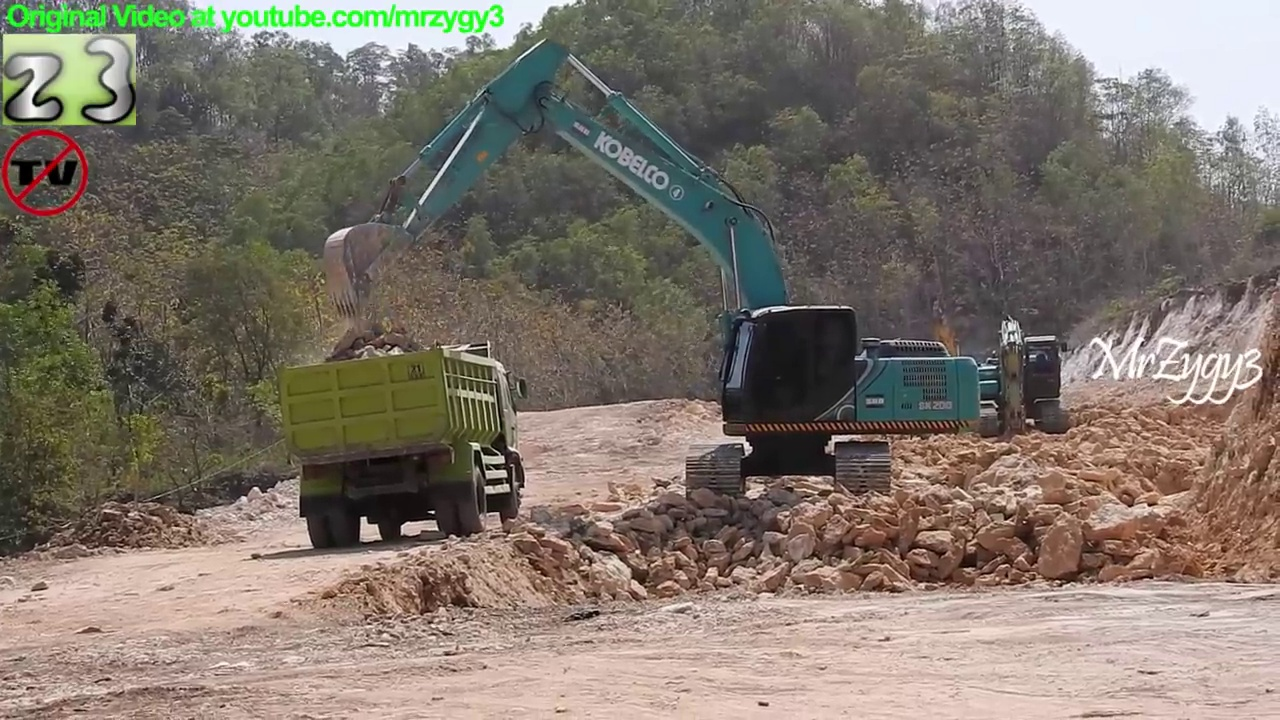excavator: (315, 31, 988, 503), (275, 330, 531, 555), (953, 307, 1081, 452), (907, 292, 988, 424)
